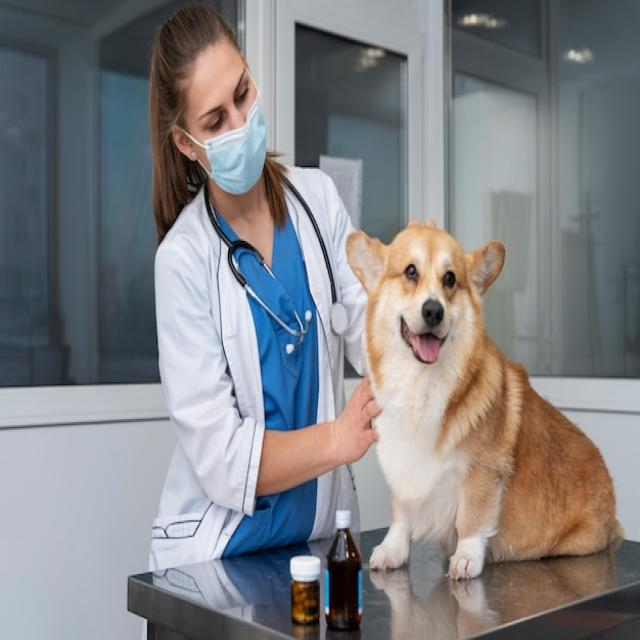Dog: (345, 222, 615, 580)
Person: (150, 2, 382, 568)
